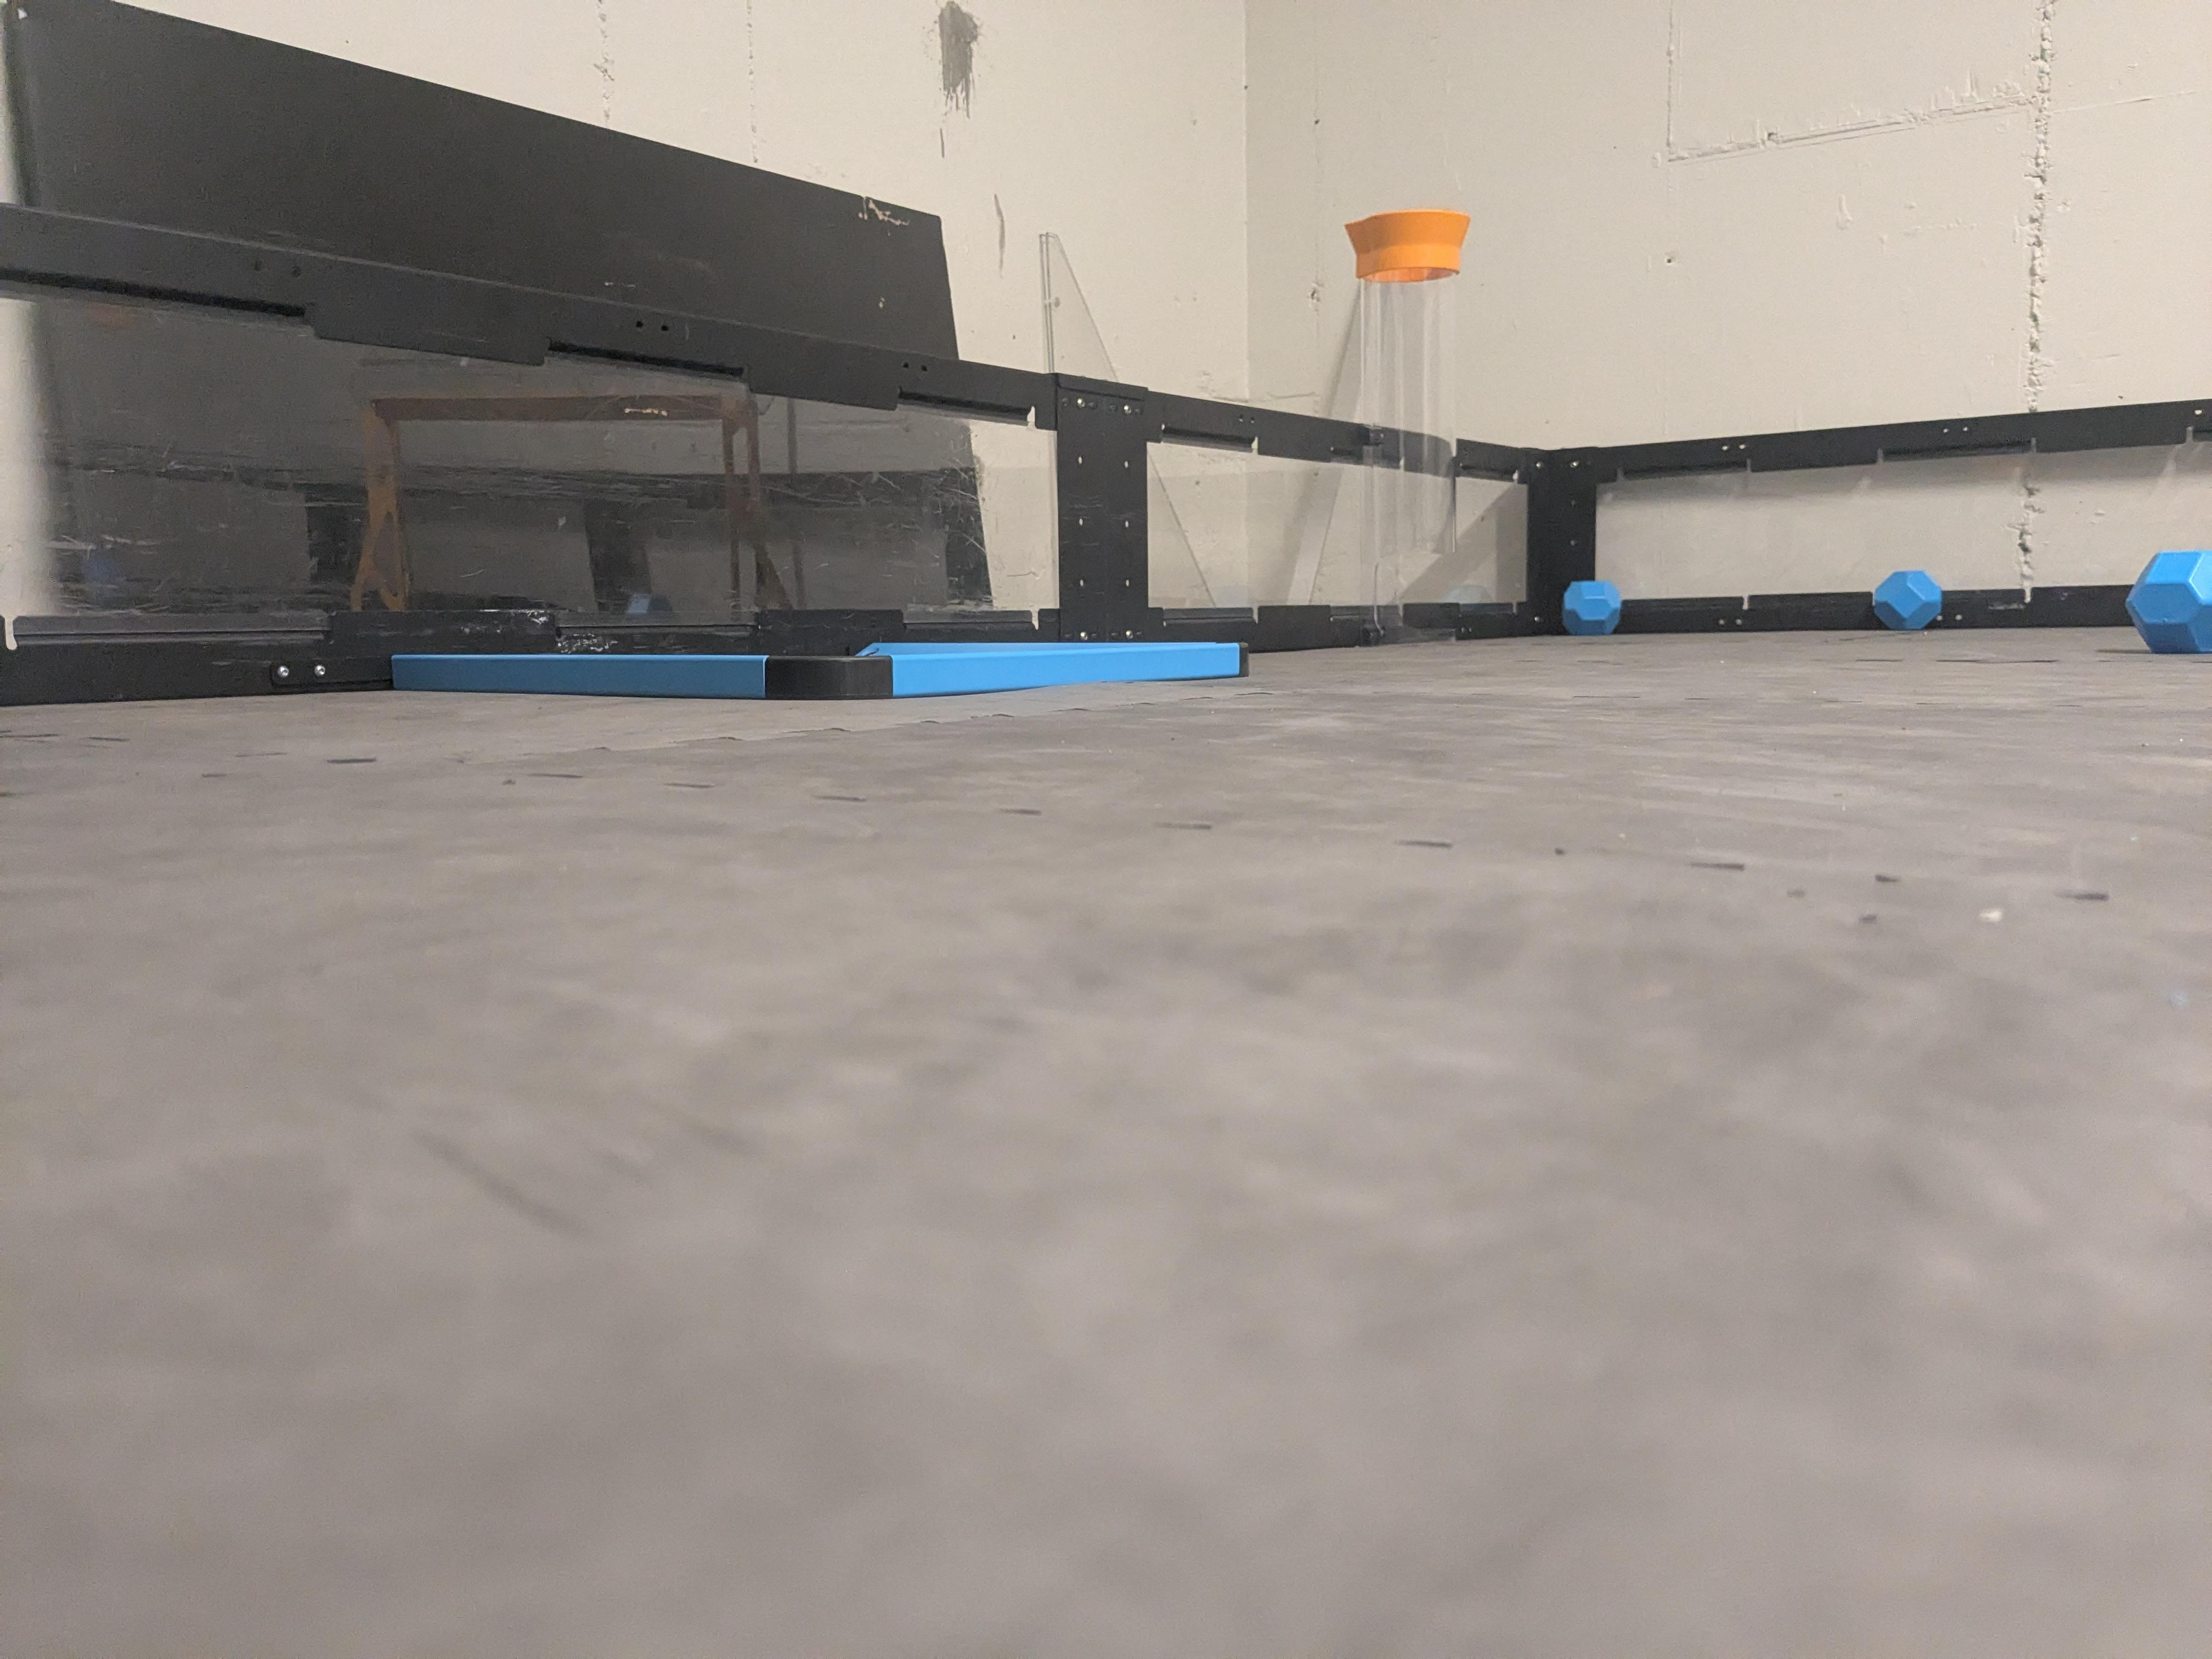Vex-Pieces-BLUE: (2132, 549, 2207, 659), (1876, 573, 1942, 629), (1562, 580, 1622, 636)
